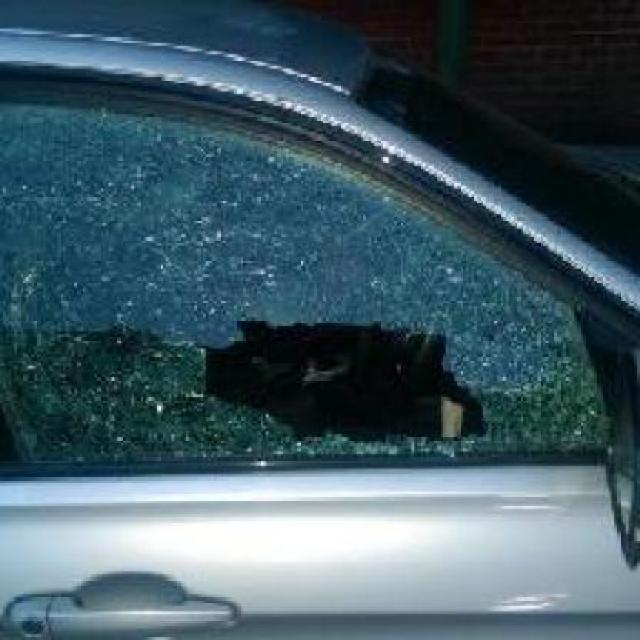damaged-window: (0, 56, 637, 512)
